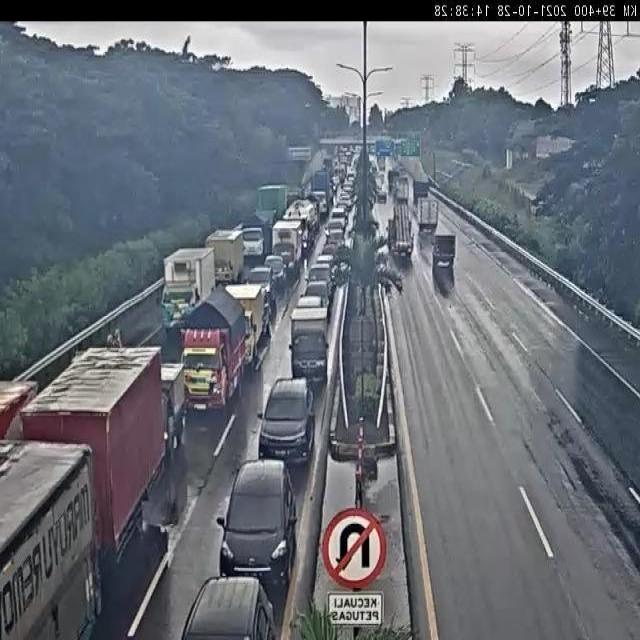Car: (217, 456, 299, 595), (256, 378, 316, 467), (245, 265, 276, 312), (301, 280, 330, 314), (304, 263, 333, 296), (264, 254, 286, 296), (314, 253, 336, 276), (319, 238, 341, 260), (294, 295, 324, 310), (324, 221, 345, 240), (330, 208, 347, 228), (376, 182, 387, 203), (334, 202, 349, 214)
Truck: (17, 348, 168, 559), (0, 439, 100, 639), (178, 282, 244, 412), (155, 247, 217, 339), (223, 284, 269, 371), (289, 306, 330, 387), (0, 377, 41, 441), (160, 361, 186, 458), (204, 227, 246, 285), (241, 206, 275, 268), (282, 199, 317, 257), (271, 219, 306, 276), (384, 204, 413, 258), (256, 184, 288, 221), (414, 196, 438, 235), (310, 170, 331, 213), (430, 234, 455, 269), (393, 174, 410, 206), (286, 190, 306, 217), (413, 180, 429, 203), (322, 156, 335, 181), (388, 168, 400, 194)
